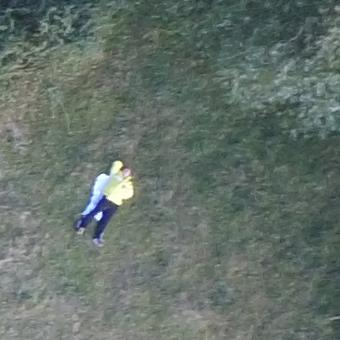human: (78, 160, 136, 249)
